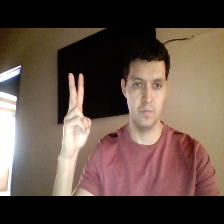KP: (60, 69, 96, 159)
